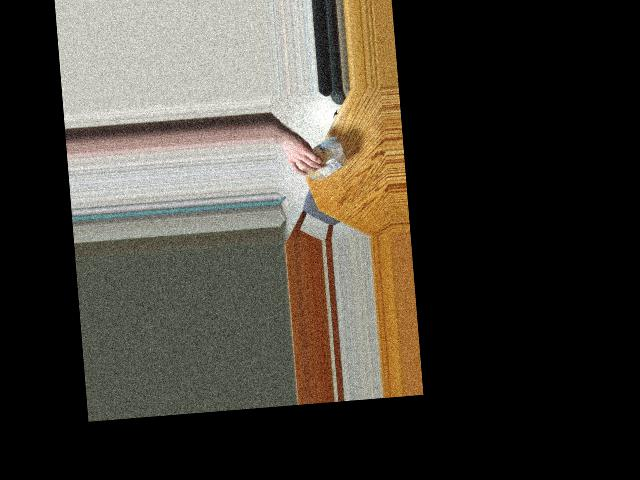cheese: (302, 148, 344, 179)
